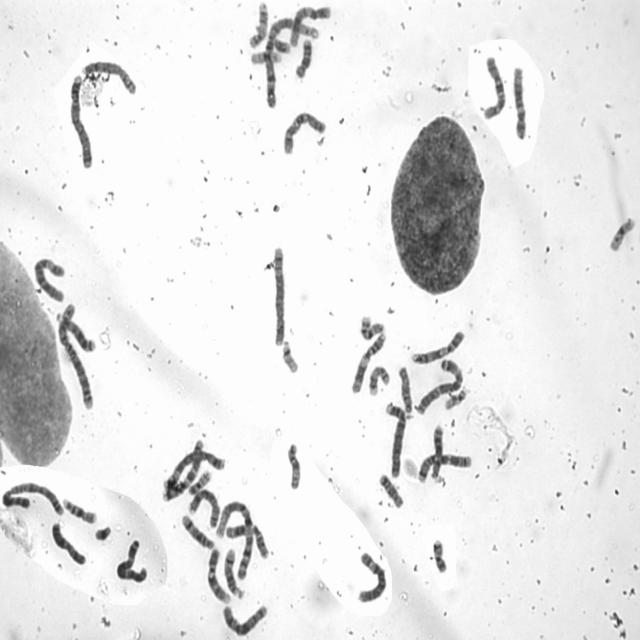A1: (264, 11, 320, 112), (216, 500, 255, 582)
A2: (55, 303, 96, 411), (0, 481, 63, 517)
A3: (412, 357, 466, 416), (113, 537, 149, 586)
B4: (68, 72, 93, 168), (385, 399, 408, 479)
B5: (162, 448, 227, 489), (272, 244, 286, 349)
C10: (281, 113, 327, 156), (481, 55, 507, 121)
C11: (349, 329, 388, 396), (227, 522, 269, 558)
C12: (287, 1, 330, 48), (510, 66, 528, 141)
C6: (354, 552, 389, 605), (31, 257, 68, 305)
C7: (161, 439, 205, 501), (415, 453, 473, 486)
C8: (80, 59, 137, 97), (187, 487, 220, 531)
C9: (409, 328, 466, 366), (206, 545, 232, 606)
D13: (54, 308, 97, 353), (429, 422, 444, 480)
D14: (179, 513, 216, 551), (221, 545, 245, 601)
D15: (395, 363, 415, 419), (285, 442, 302, 492)
E16: (60, 499, 99, 526), (357, 313, 387, 342)
E17: (366, 362, 391, 397), (250, 1, 268, 49)
E18: (375, 471, 406, 509), (293, 37, 313, 78)
F19: (606, 216, 637, 253), (248, 48, 284, 66)
F20: (186, 467, 212, 496), (431, 534, 449, 574)
G21: (92, 521, 113, 543), (271, 35, 291, 54)
G22: (442, 381, 469, 411), (279, 338, 300, 375)
X: (219, 602, 270, 638), (48, 520, 87, 566)
